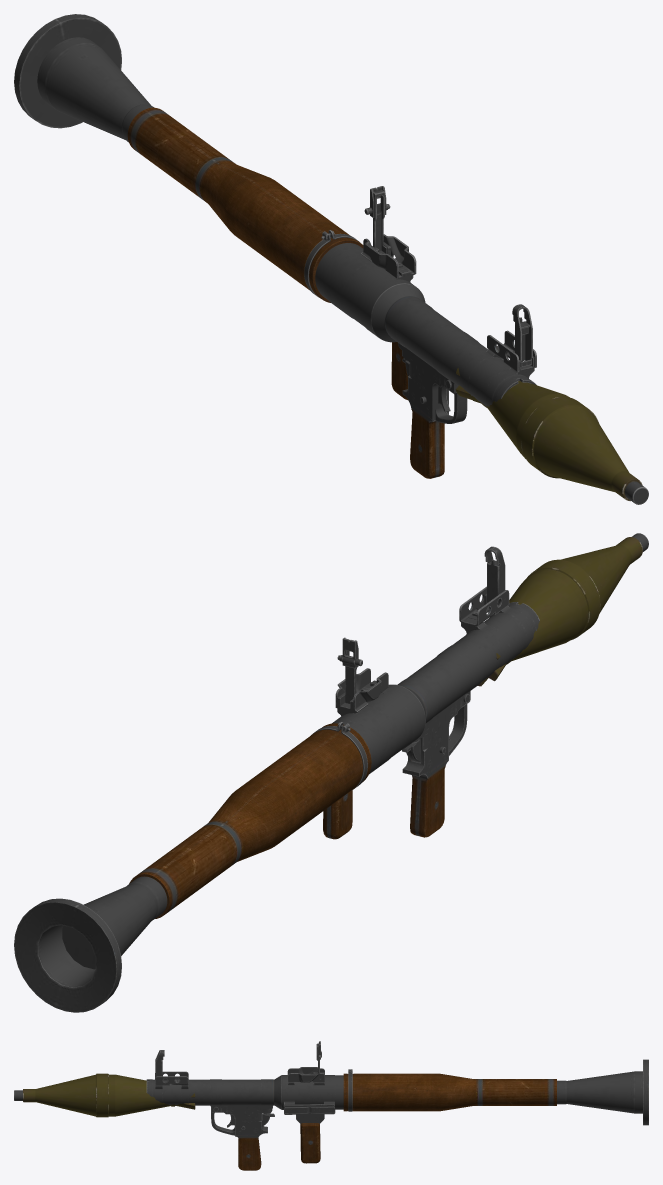
File: rpg7.glb
The picture shows the model from 3 angles, top to bottom: view 1: azimuth 30°, elevation 25°; view 2: azimuth 150°, elevation 25°; view 3: azimuth 270°, elevation 25°; orthographic projection. The views are drawn at different scales.
Visible parts, largest first — view 1: RPG7_RPG7_0, rocket_RPG7Rocket_0; view 2: RPG7_RPG7_0, rocket_RPG7Rocket_0; view 3: RPG7_RPG7_0, rocket_RPG7Rocket_0.
Part boxes in pixels (x1=…): RPG7_RPG7_0: x1=14, y1=14, x2=536, y2=478; rocket_RPG7Rocket_0: x1=455, y1=368, x2=648, y2=504; RPG7_RPG7_0: x1=14, y1=546, x2=539, y2=1012; rocket_RPG7Rocket_0: x1=477, y1=533, x2=648, y2=686; RPG7_RPG7_0: x1=146, y1=1050, x2=648, y2=1170; rocket_RPG7Rocket_0: x1=14, y1=1073, x2=195, y2=1117.
Bounding box in the file's own units: 0.0624 × 0.1365 × 0.6056.
Materials: 2 (2 with a texture image).
